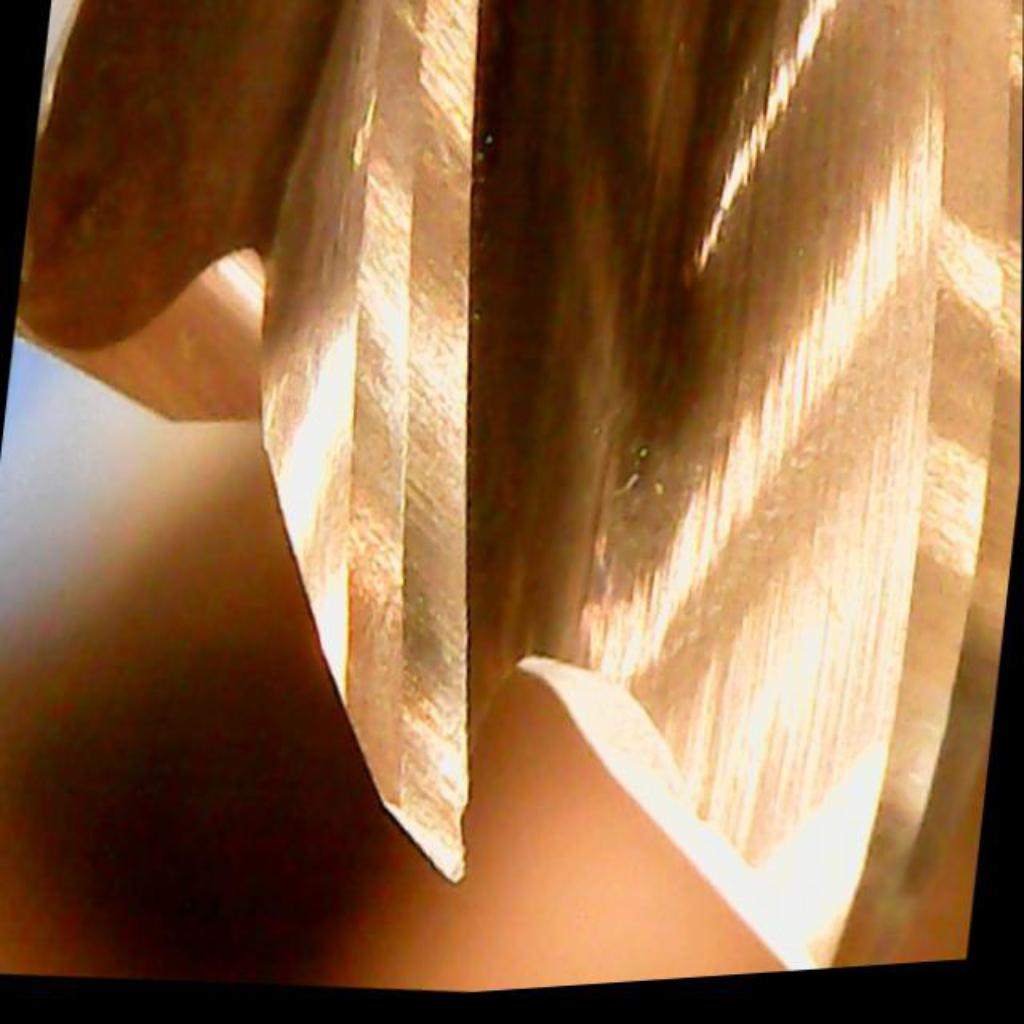Tool-wear-class-0: (240, 333, 555, 916)
